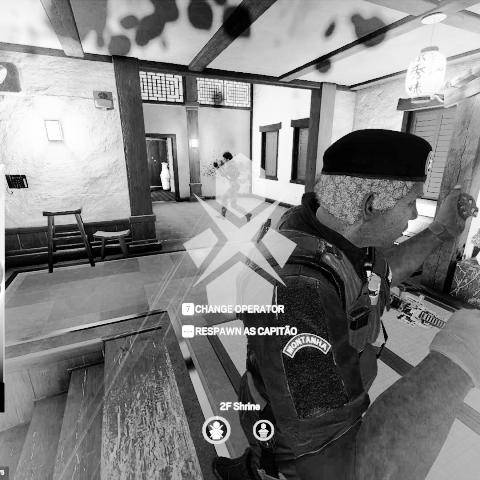Character: (223, 109, 480, 474), (210, 149, 253, 223)
Head: (317, 124, 434, 252), (222, 150, 234, 164)
